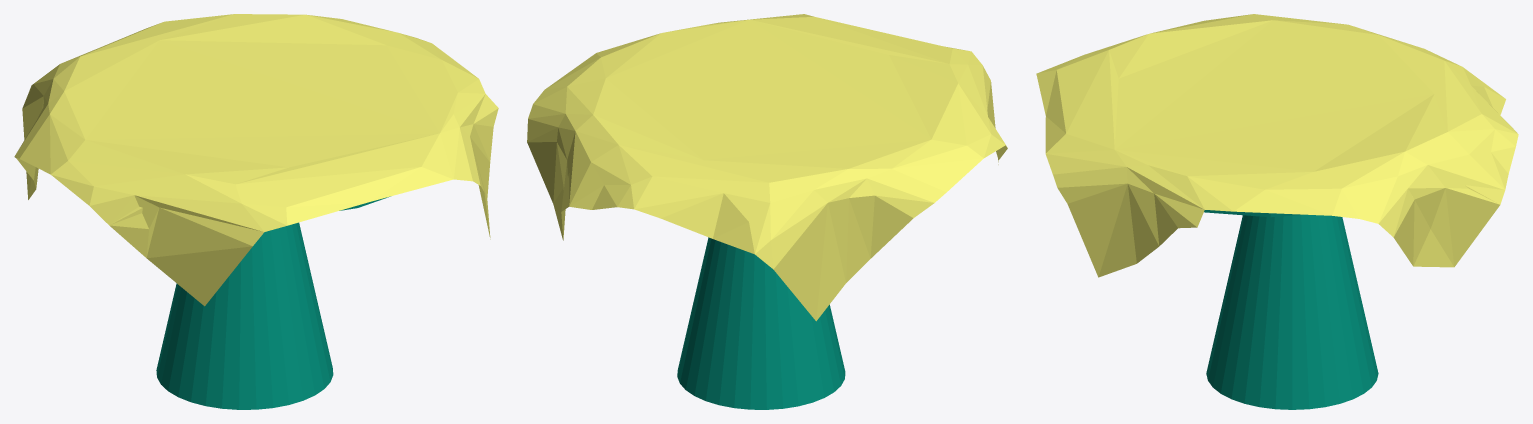
The model's file is Mesa y Mantel.FBX.
3 renders of one model, left to right at view 1: azimuth 30°, elevation 25°; view 2: azimuth 150°, elevation 25°; view 3: azimuth 270°, elevation 25°, orthographic. The views are drawn at different scales.
Visible parts, largest first — view 1: Plane, Mesa; view 2: Plane, Mesa; view 3: Plane, Mesa.
Boxes of the visible parts, x1,y1,x2,y2 form: Plane: (14, 14, 498, 306); Mesa: (156, 196, 390, 409); Plane: (527, 14, 1007, 321); Mesa: (677, 237, 845, 409); Plane: (1036, 14, 1518, 277); Mesa: (1204, 210, 1378, 409).
Bounding box in the file's own units: 141 × 91.75 × 144.
